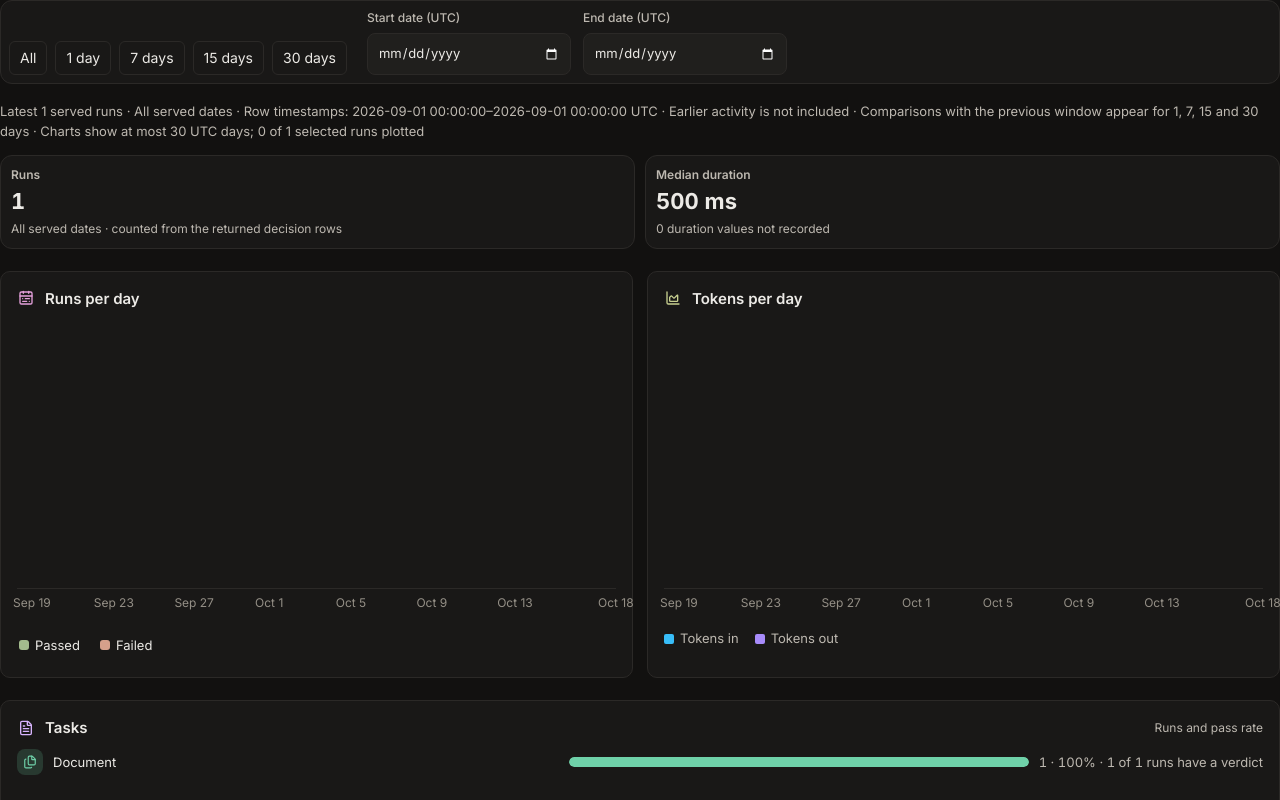
Scenario: OMN-21166: Overview insight charts › C7: with no rows in the window the section says so
Click the button "7 days" at coordinates (152, 58), box x1=119 y1=41 x2=185 y2=75
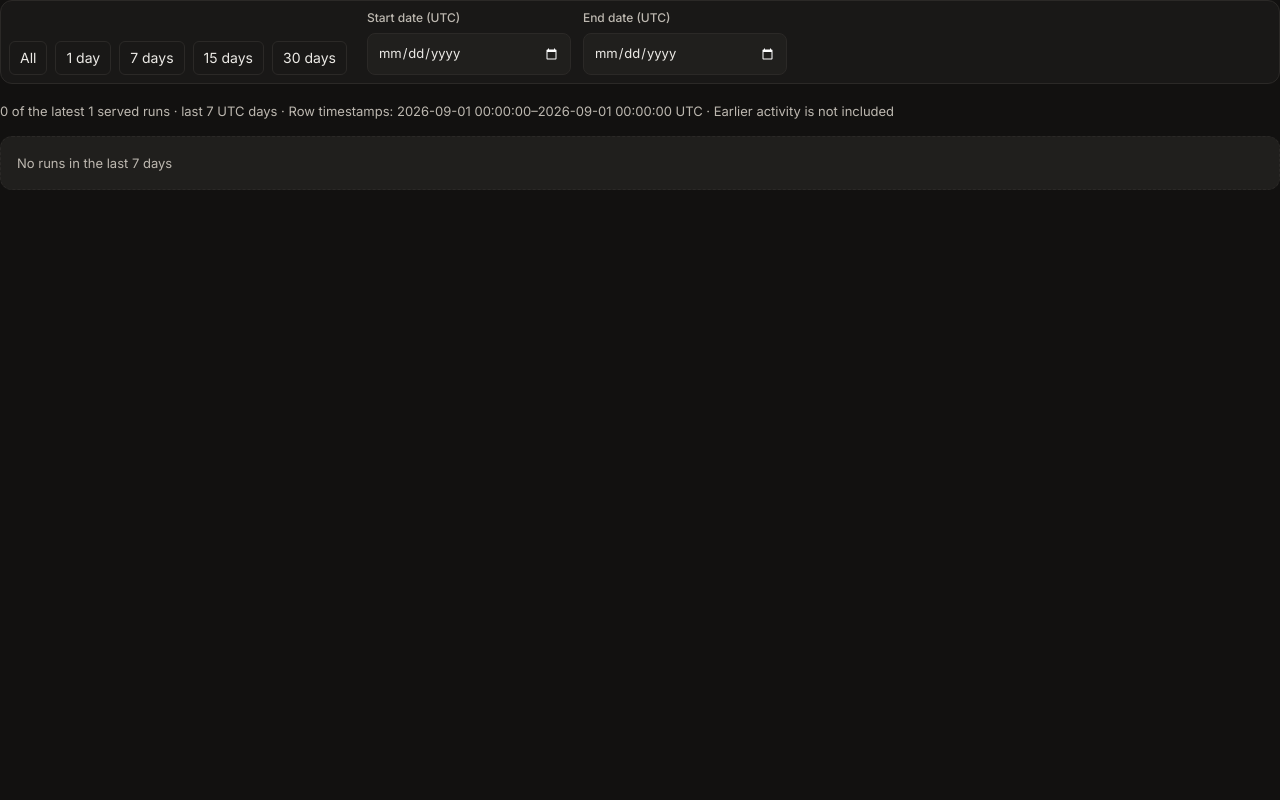
Check: the message named "Insights" reads "No runs in the last 7 days", box x1=17 y1=154 x2=172 y2=170
